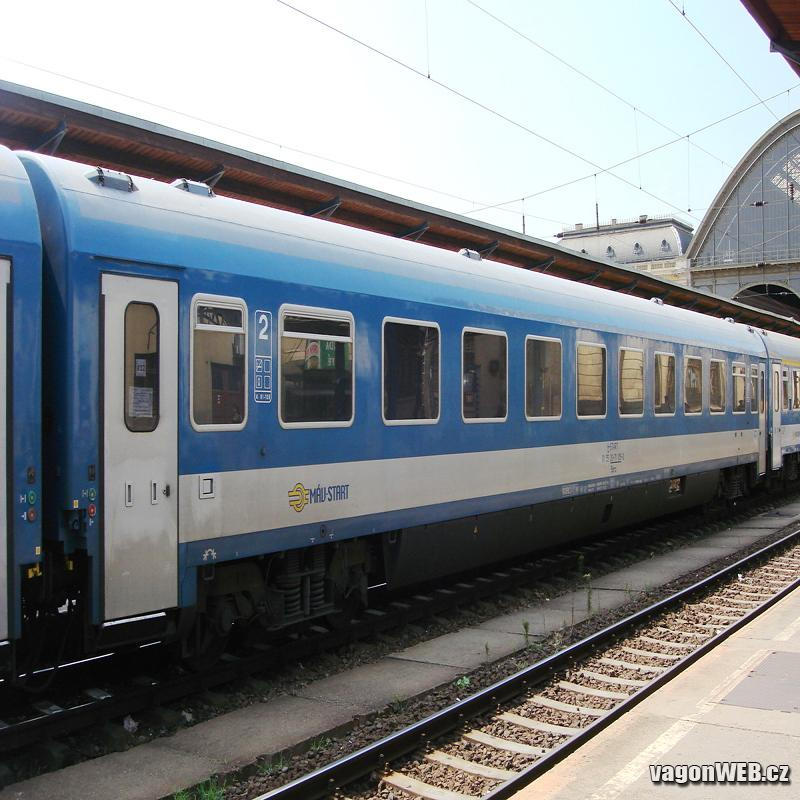train: (17, 150, 774, 724)
